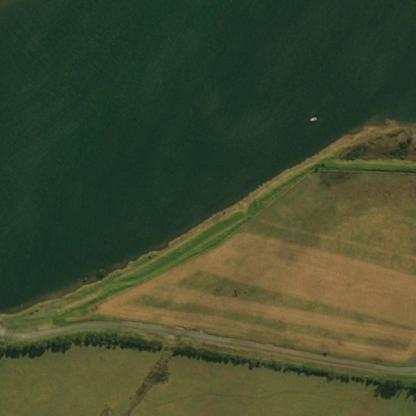ship: (306, 108, 318, 126)
